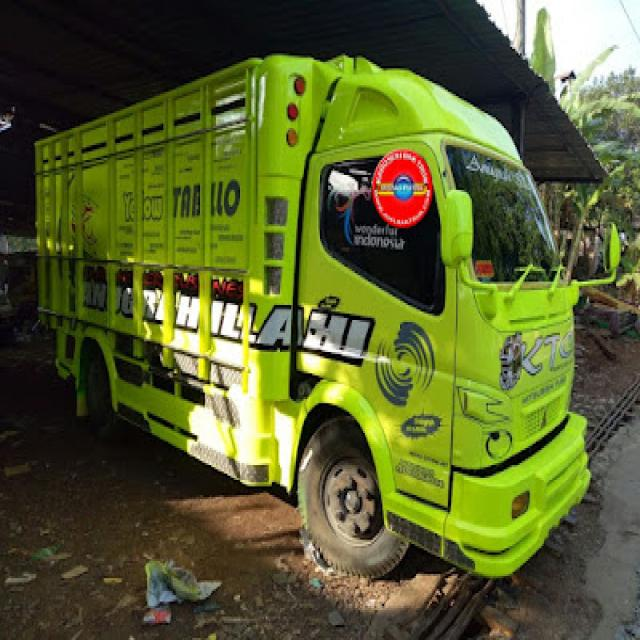Truck: (32, 51, 616, 574)
